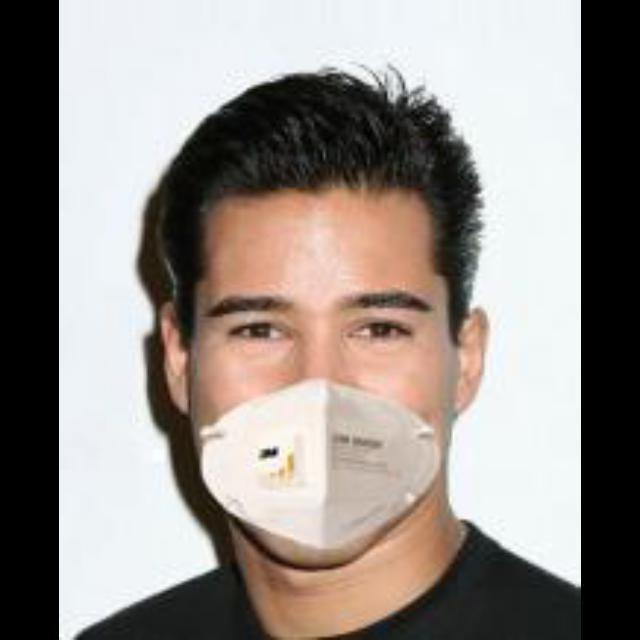1_mascarilla: (198, 377, 446, 554)
